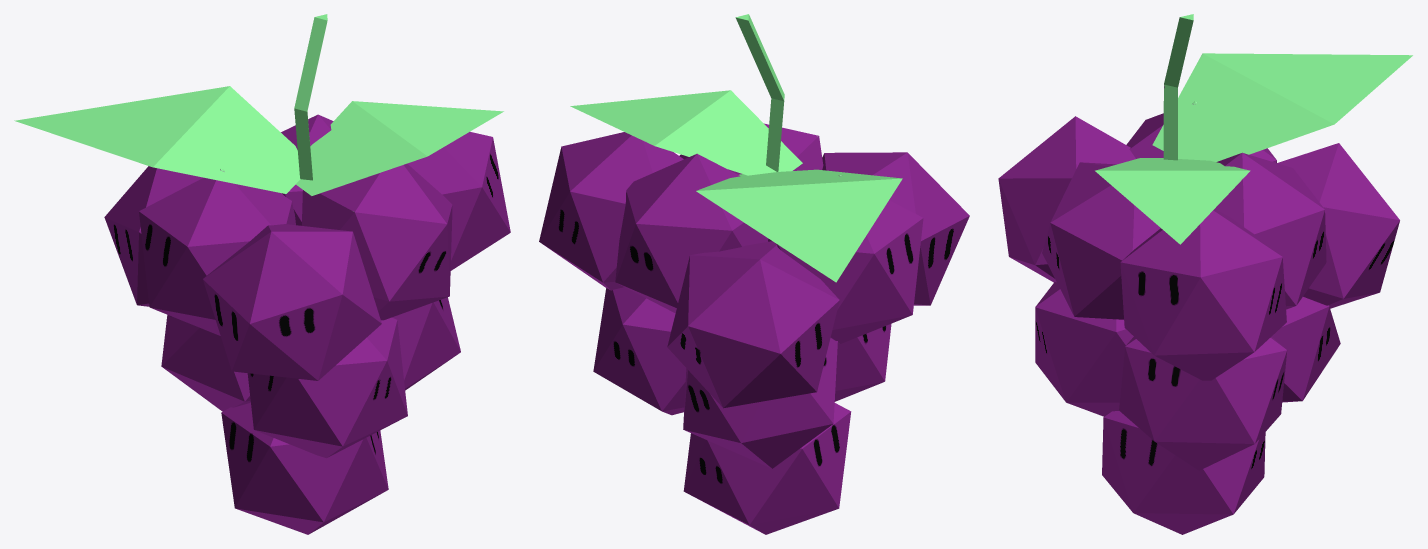
File: grapes.glb
3 renders of one model, left to right at view 1: azimuth 30°, elevation 25°; view 2: azimuth 150°, elevation 25°; view 3: azimuth 270°, elevation 25°, orthographic. The views are drawn at different scales.
Parts seen in each view (by area): view 1: grape; view 2: grape; view 3: grape.
Part boxes in pixels (box(x1,y1,x2,y2)): grape: box(14, 14, 510, 534); grape: box(539, 14, 969, 534); grape: box(998, 14, 1412, 534).
Size of the model in its own units: 4.7 by 6.09 by 4.35.
Materials: 1 (1 with a texture image).
